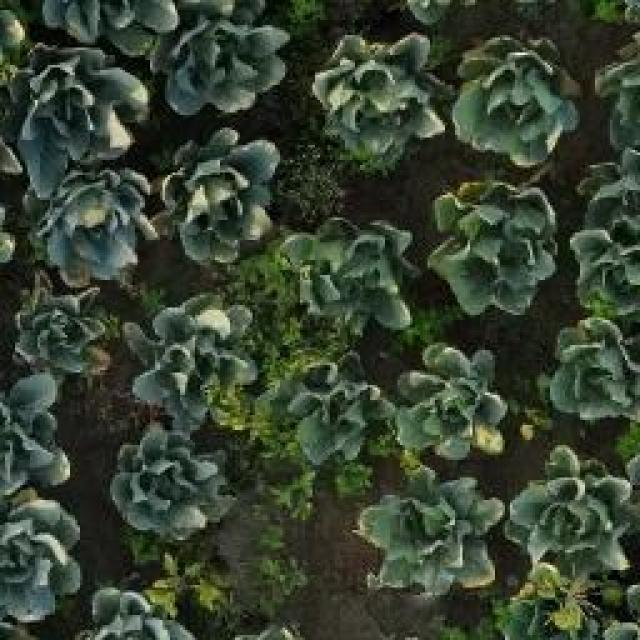cabbage: (9, 41, 151, 173), (277, 215, 419, 342), (362, 471, 500, 593), (436, 177, 560, 311), (310, 32, 440, 155), (161, 130, 275, 262), (157, 0, 290, 112), (455, 38, 577, 158), (393, 344, 510, 458), (40, 170, 160, 279), (135, 302, 245, 420), (508, 455, 618, 573), (0, 371, 88, 504), (114, 439, 231, 536), (279, 360, 387, 460), (17, 282, 110, 388), (0, 503, 82, 623), (551, 319, 640, 427), (564, 173, 640, 293)
